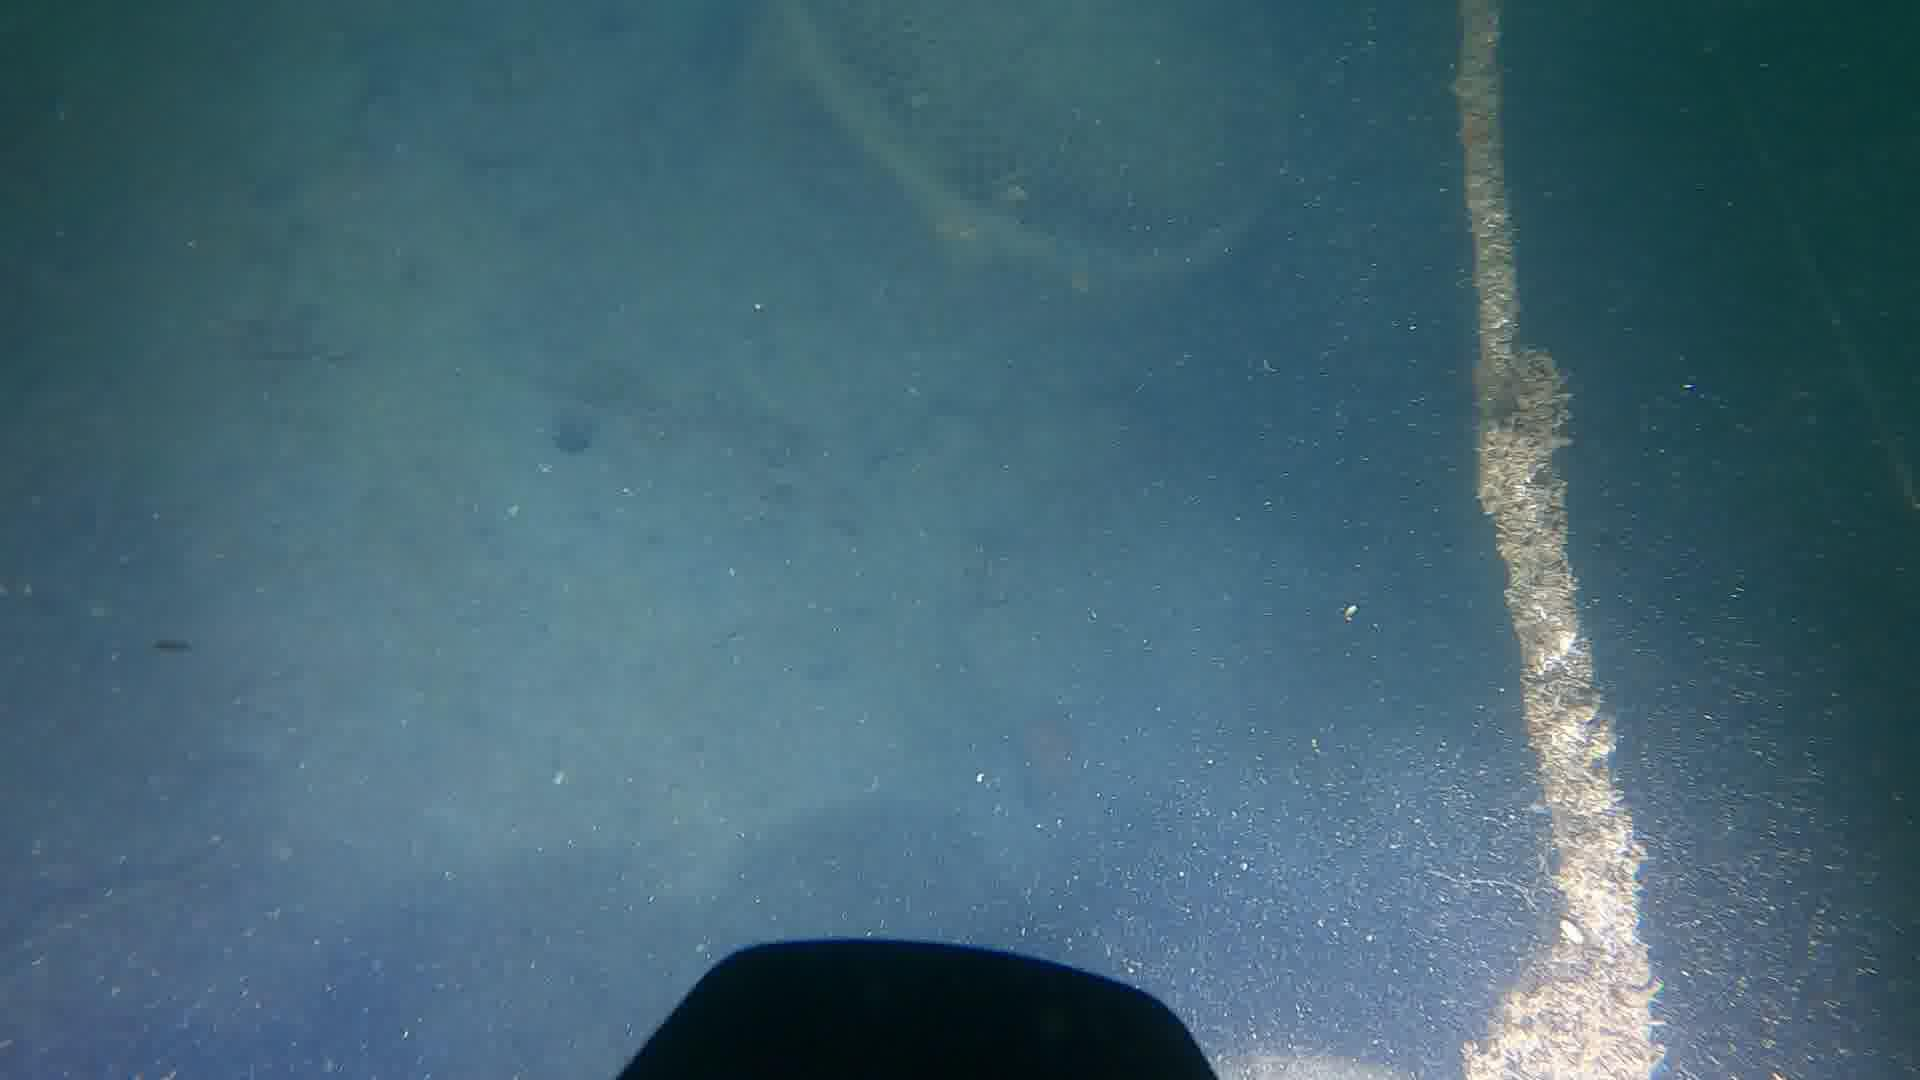circular fish trap: (732, 0, 1304, 280)
